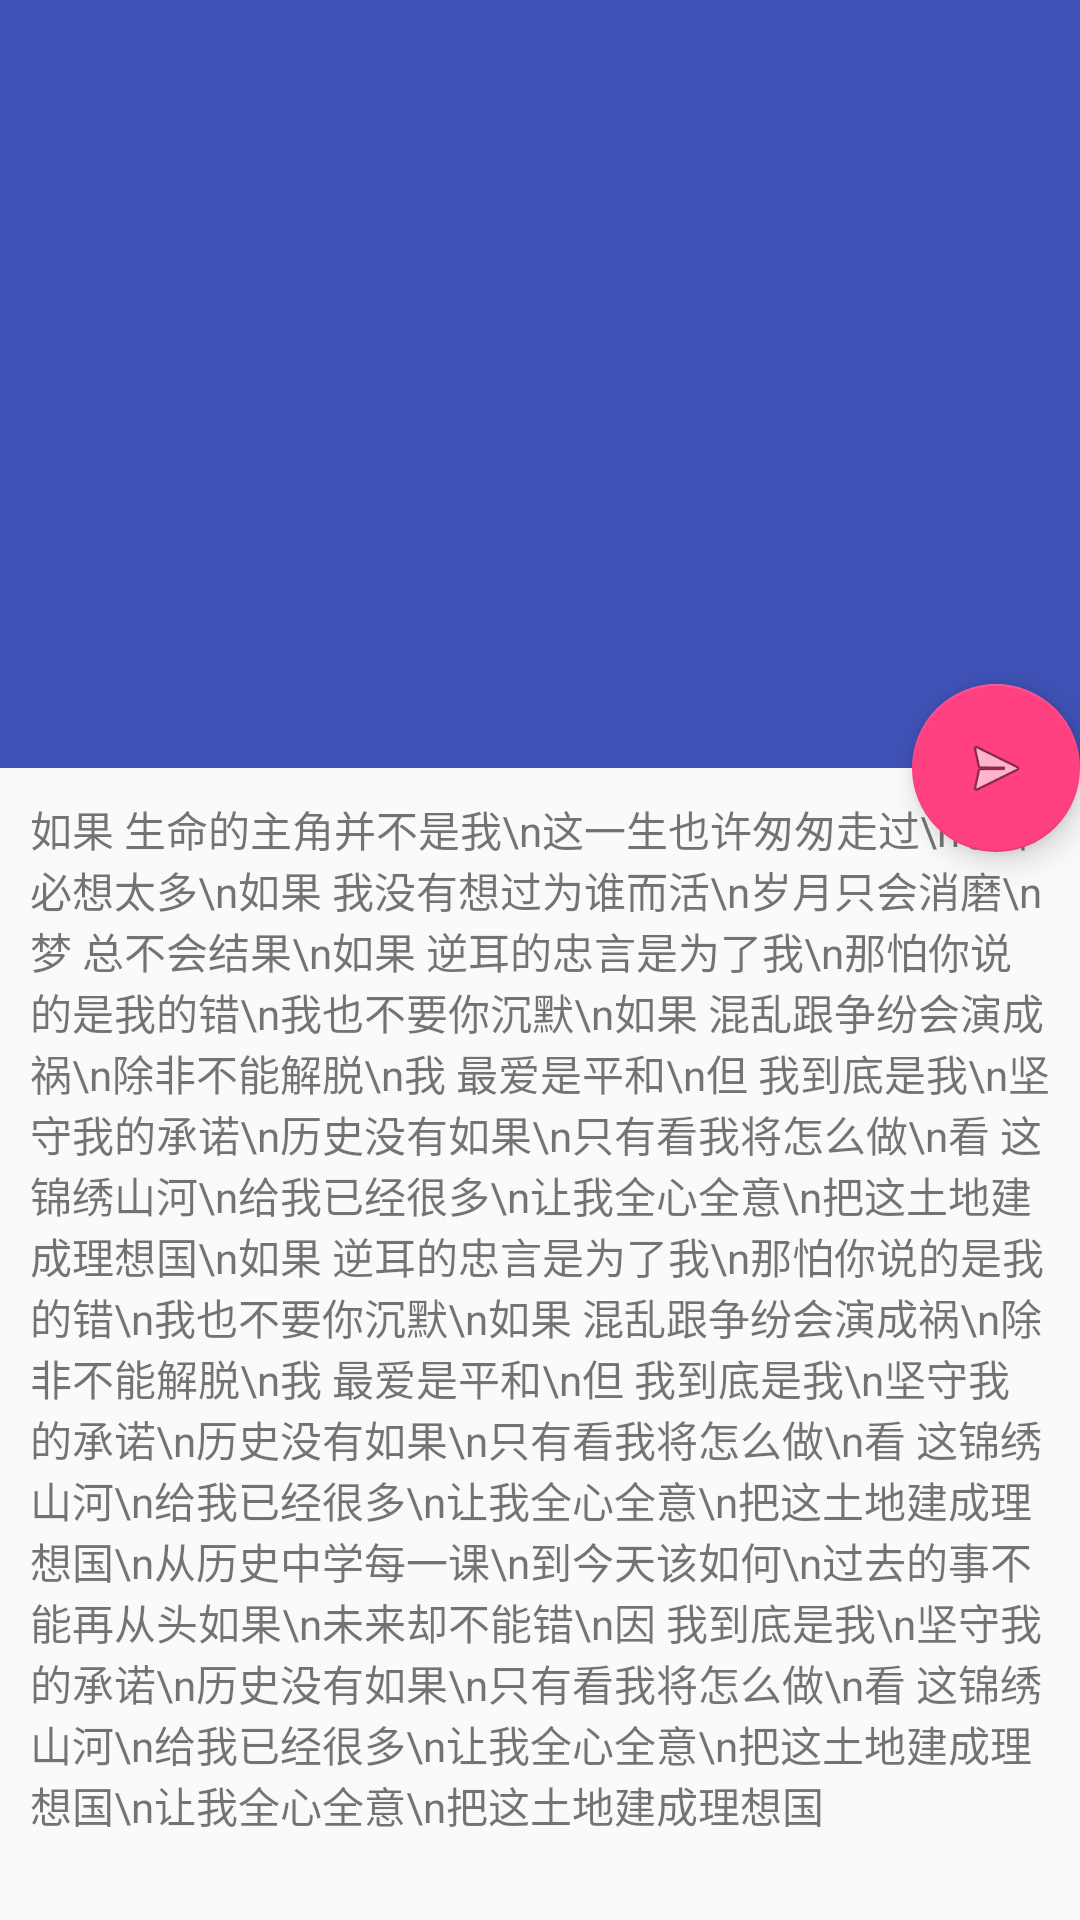

Screen size 1080w x 1920h. Icon name, then its center in pixels as point (x, y):
send: point (996, 768)
